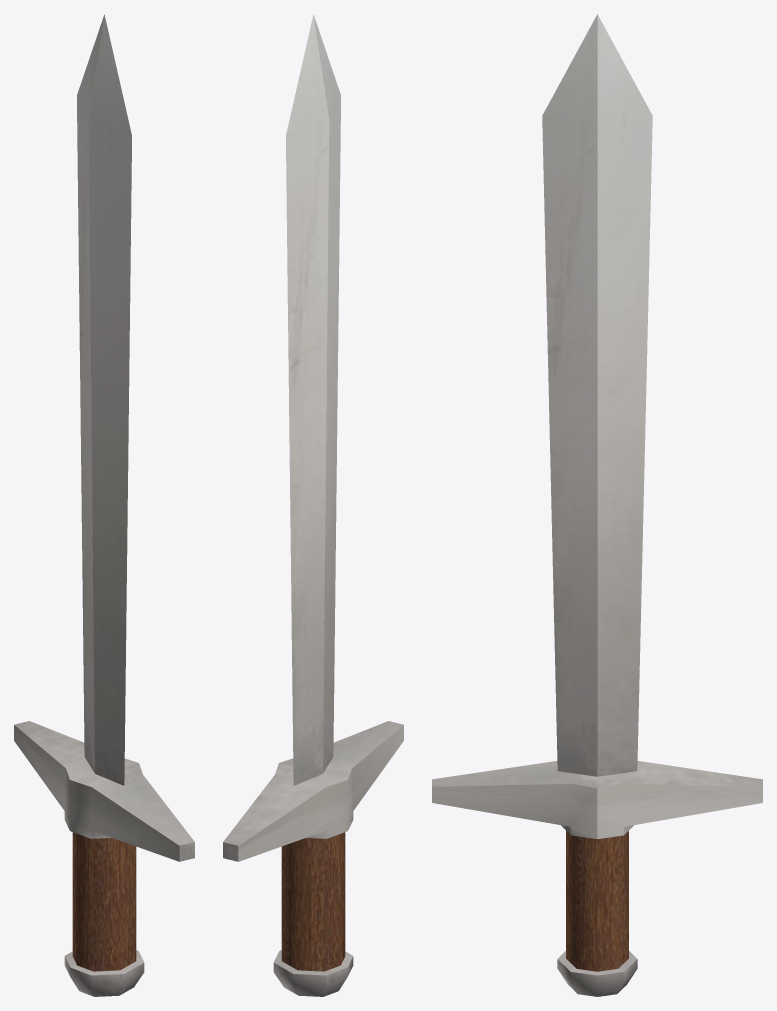
Rendered from Sword.fbx.
3 renders of one model, left to right at view 1: azimuth 30°, elevation 25°; view 2: azimuth 150°, elevation 25°; view 3: azimuth 270°, elevation 25°, orthographic.
Visible parts, largest first — view 1: Cube; view 2: Cube; view 3: Cube.
Part boxes in pixels (left/top/right/bottom): Cube: left=14, top=14, right=194, bottom=996; Cube: left=223, top=14, right=403, bottom=996; Cube: left=432, top=14, right=762, bottom=996.
Size of the model in its own units: 200 by 2688 by 830.
